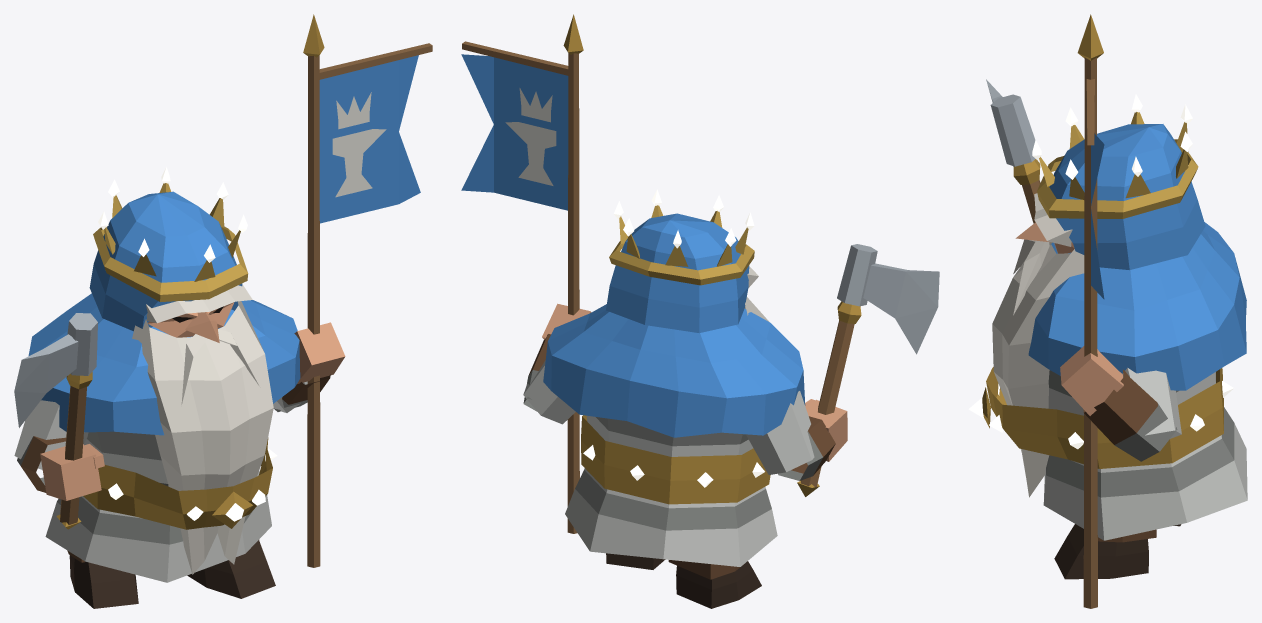
Rendered from balin-3.glb.
3 views of the same model, side by side, from view 1: azimuth 30°, elevation 25°; view 2: azimuth 150°, elevation 25°; view 3: azimuth 270°, elevation 25° (orthographic). The views are drawn at different scales.
Visible parts, largest first — view 1: balin-3; view 2: balin-3; view 3: balin-3.
Part boxes in pixels (bbox=[...]): balin-3: bbox=[14, 14, 432, 608]; balin-3: bbox=[461, 14, 939, 608]; balin-3: bbox=[968, 14, 1247, 608].
Bounding box in the file's own units: 1.46 × 1.67 × 0.7147.
